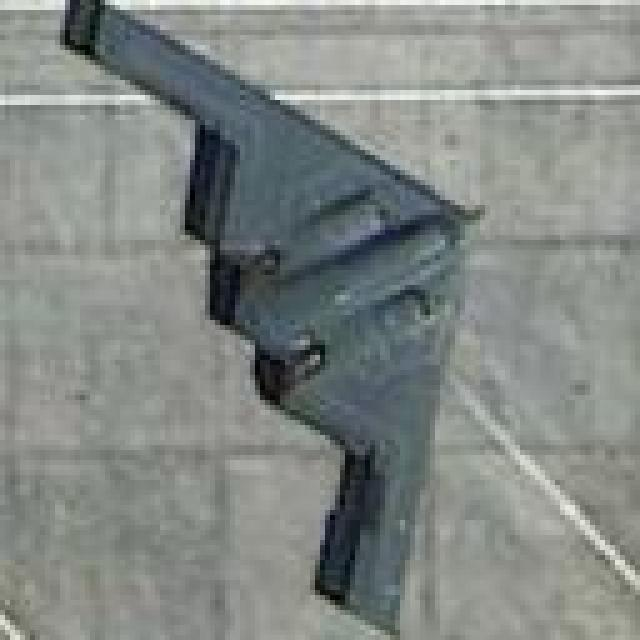B-2_TopDown: (50, 0, 485, 635)
